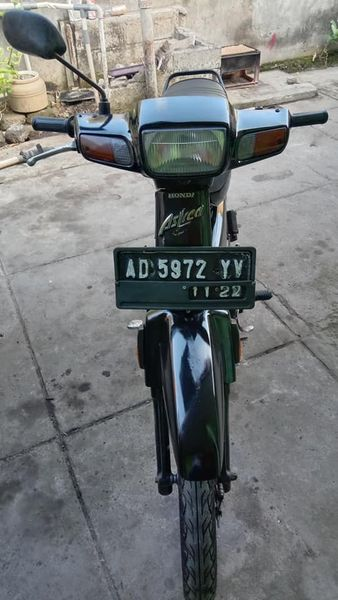plate: (111, 245, 257, 314)
